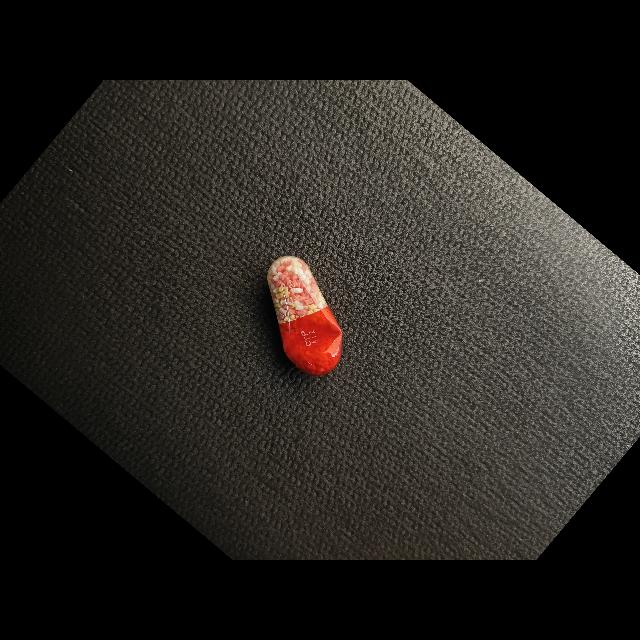Defective Capsule: (267, 256, 343, 376)
